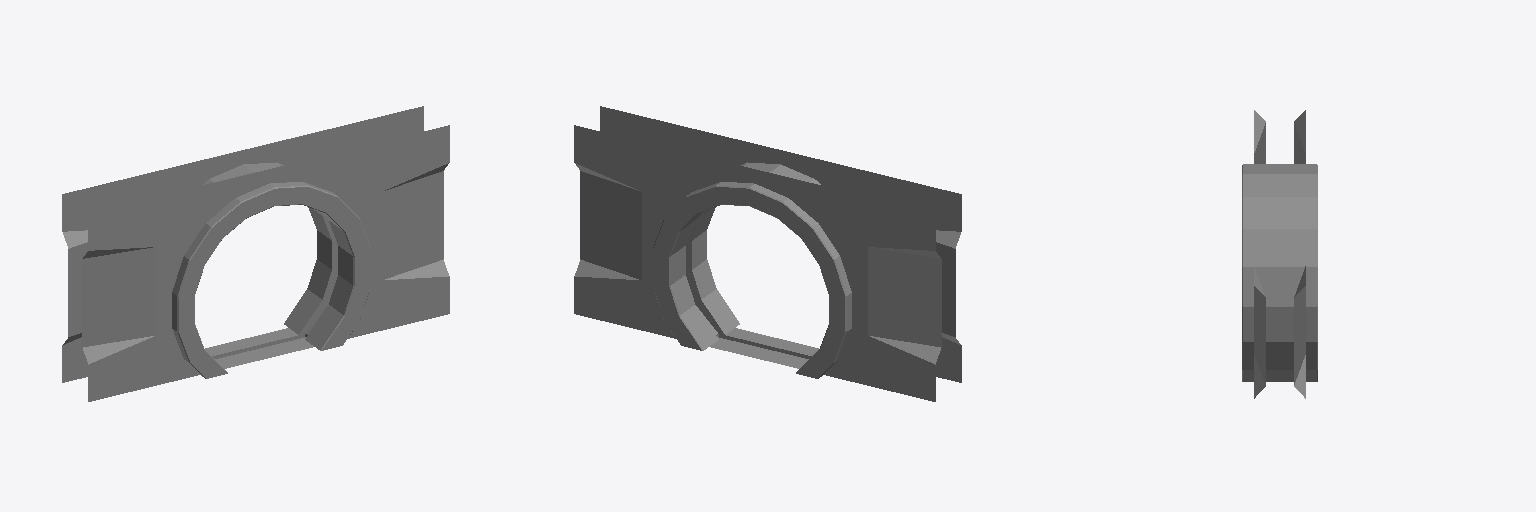
File: Door01_LP.obj
The picture shows the model from 3 angles: view 1: azimuth 30°, elevation 25°; view 2: azimuth 150°, elevation 25°; view 3: azimuth 270°, elevation 25°; orthographic projection.
Parts seen in each view (by area): view 1: Box002; view 2: Box002; view 3: Box002.
Boxes of the visible parts, x1=… form: Box002: x1=62, y1=106, x2=449, y2=401; Box002: x1=574, y1=106, x2=961, y2=401; Box002: x1=1242, y1=110, x2=1317, y2=398.
Size of the model in its own units: 1024 by 522 by 185.